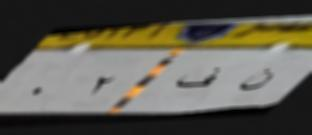0: (27, 80, 48, 105)
2: (89, 70, 117, 100)
faa: (172, 63, 222, 94)
noon: (235, 66, 274, 100)
